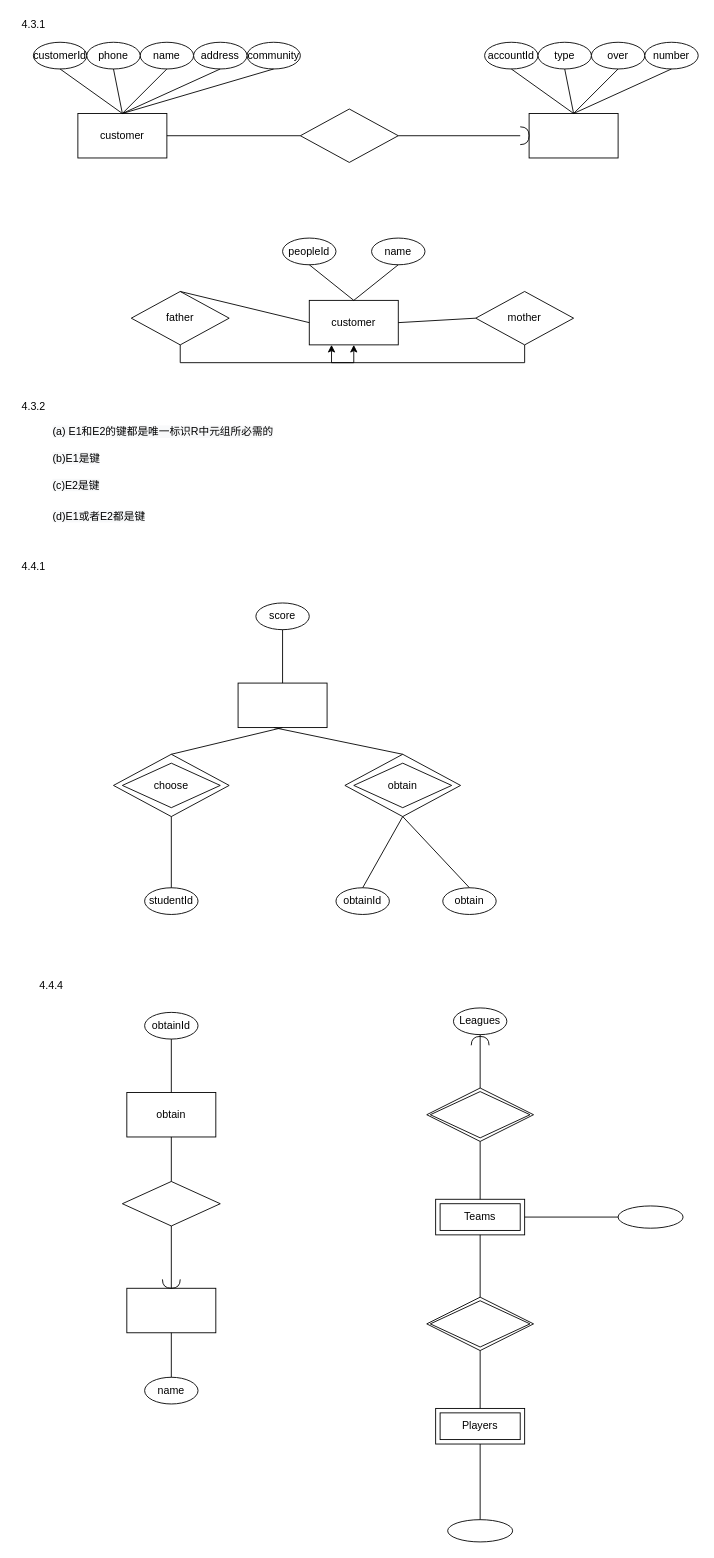
Image size: 714x1558. Some labels were removed from this diagram. The shapes that lost their labels are listed below. From the top down, each one's centre as x and y in pixels, then its label:
At (x=348, y=135): "build".
At (x=573, y=135): "account".
At (x=282, y=705): "register".
At (x=480, y=1114): "Relationship".
At (x=170, y=1203): "open".
At (x=650, y=1216): "teamName".
At (x=171, y=1310): "Departments".
At (x=480, y=1323): "have".
At (x=480, y=1530): "teamId".
